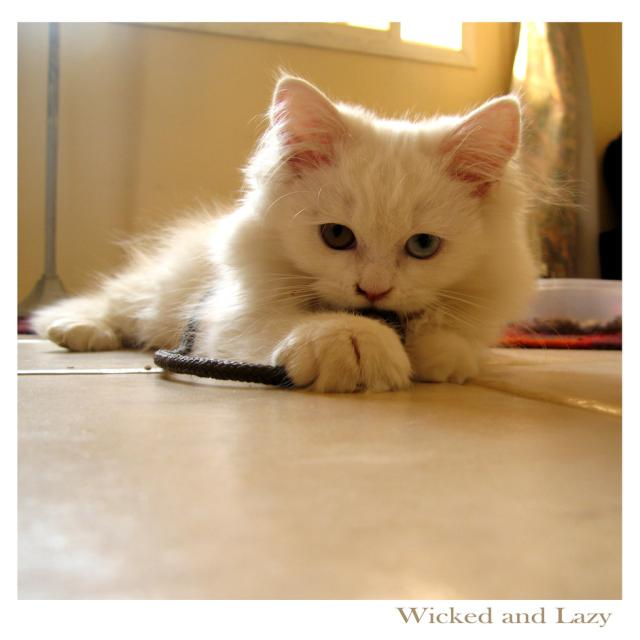cat: (25, 68, 591, 396)
